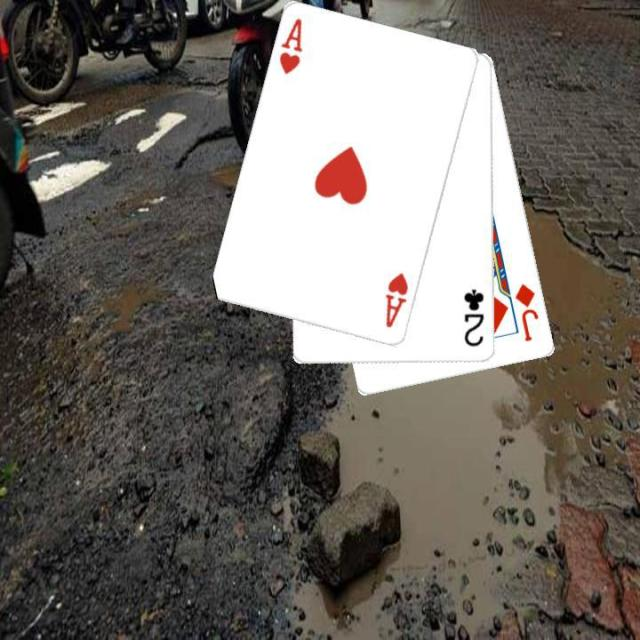2C: (461, 286, 486, 348)
AH: (275, 14, 305, 76), (381, 269, 411, 330)
JD: (511, 279, 541, 343)
